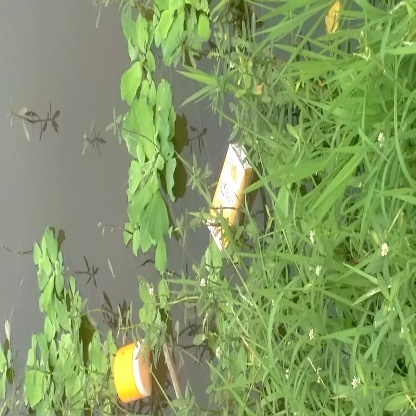bottle: (104, 329, 159, 413)
milk-box: (201, 137, 259, 252)
